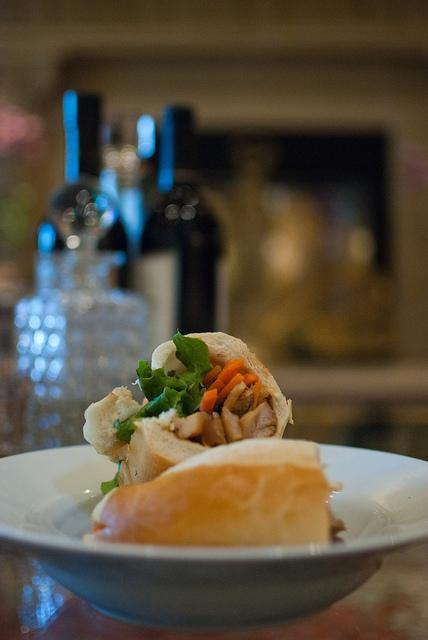carrot: (214, 372, 244, 407), (217, 358, 245, 386), (198, 388, 218, 415), (202, 365, 222, 386), (206, 378, 225, 396), (243, 374, 259, 388), (254, 382, 262, 409)
lettuce: (114, 387, 182, 444), (172, 328, 214, 388), (176, 381, 206, 416), (100, 471, 120, 496), (168, 370, 176, 377)
